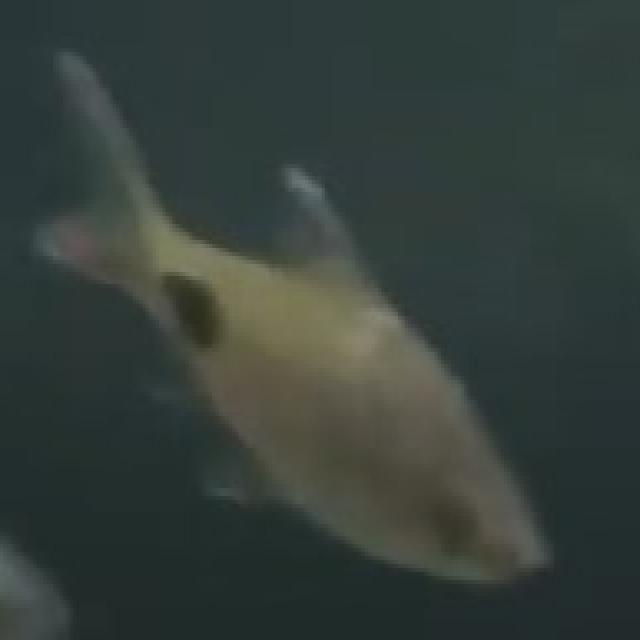Black-Spotted-Barb: (28, 42, 583, 613)
